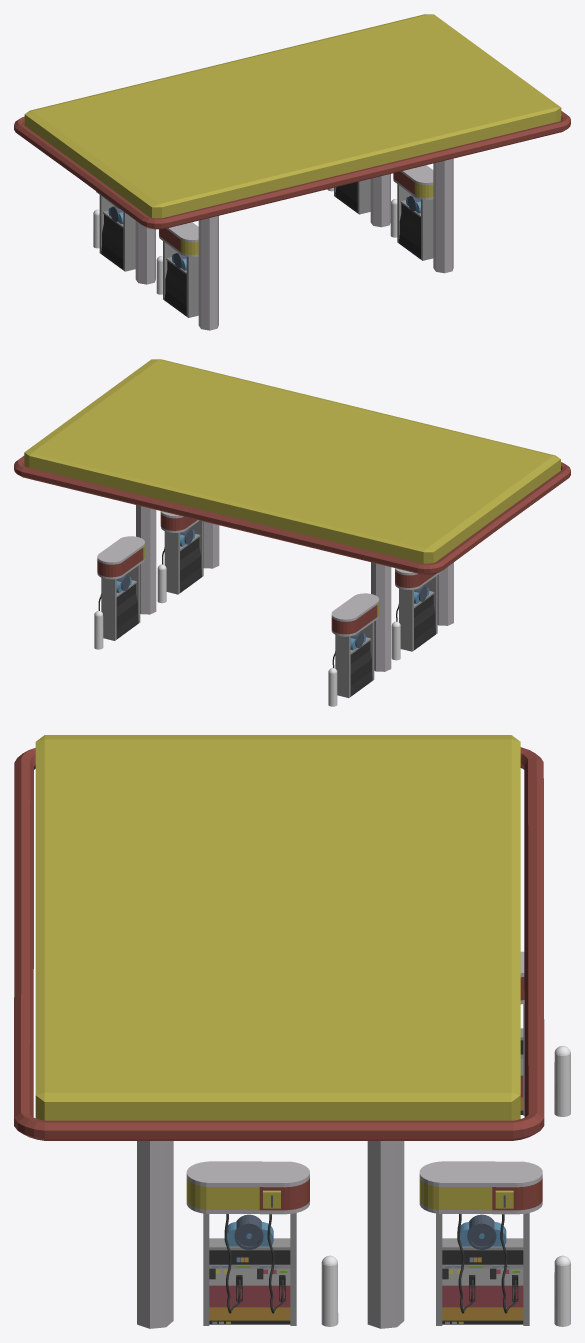
The model's file is gas_station.glb.
3 views of the same model, one above another, from view 1: azimuth 30°, elevation 25°; view 2: azimuth 150°, elevation 25°; view 3: azimuth 270°, elevation 25° (orthographic). The views are drawn at different scales.
Visible parts, largest first — view 1: Cube.005_Cube.006, zzzzThething_Cylinder.004, Cylinder, Cylinder.001, Cylinder.003, Cylinder.002, Cylinder.064_Cylinder.067, Cylinder.005_Cylinder.006, Cube.062_Cube.064, Cube.009_Cube.011, Cube.122_Cube.124, Cube.006_Cube.008 (+4 smaller); view 2: Cube.005_Cube.006, zzzzThething_Cylinder.004, Cylinder.003, Cylinder.002, Cylinder.034_Cylinder.037, Cylinder.035_Cylinder.038, Cylinder, Cube.062_Cube.064, Cube.067_Cube.069, Cube.064_Cube.066, Cube.124_Cube.126, Cube.069_Cube.071 (+6 smaller); view 3: Cube.005_Cube.006, zzzzThething_Cylinder.004, Cylinder.002, Cylinder.001, Cylinder.035_Cylinder.038, Cylinder.064_Cylinder.067, Cube.122_Cube.124, Cube.069_Cube.071, Sphere.003, Sphere.002, Sphere.001, Cylinder.048_Cylinder.051 (+5 smaller).
Boxes of the visible parts, <box> form: Cube.005_Cube.006: <box>24,14,561,218</box>; zzzzThething_Cylinder.004: <box>14,111,570,229</box>; Cylinder: <box>198,216,218,330</box>; Cylinder.001: <box>433,158,453,273</box>; Cylinder.003: <box>135,220,155,284</box>; Cylinder.002: <box>370,174,390,227</box>; Cylinder.064_Cylinder.067: <box>393,165,433,199</box>; Cylinder.005_Cylinder.006: <box>159,222,198,256</box>; Cube.062_Cube.064: <box>101,214,123,269</box>; Cube.009_Cube.011: <box>164,261,186,316</box>; Cube.122_Cube.124: <box>399,203,420,259</box>; Cube.006_Cube.008: <box>186,256,198,317</box>; Cube.005_Cube.006: <box>24,359,560,563</box>; zzzzThething_Cylinder.004: <box>14,456,570,574</box>; Cylinder.003: <box>371,562,391,671</box>; Cylinder.002: <box>136,505,156,614</box>; Cylinder.034_Cylinder.037: <box>331,593,379,636</box>; Cylinder.035_Cylinder.038: <box>97,536,144,579</box>; Cylinder: <box>437,562,453,625</box>; Cube.062_Cube.064: <box>350,641,372,696</box>; Cube.067_Cube.069: <box>101,577,116,640</box>; Cube.064_Cube.066: <box>335,635,350,697</box>; Cube.124_Cube.126: <box>164,531,179,594</box>; Cube.069_Cube.071: <box>116,584,138,639</box>; Cube.005_Cube.006: <box>35,735,520,1120</box>; zzzzThething_Cylinder.004: <box>14,747,544,1140</box>; Cylinder.002: <box>367,1141,404,1328</box>; Cylinder.001: <box>137,1141,173,1328</box>; Cylinder.035_Cylinder.038: <box>419,1161,542,1214</box>; Cylinder.064_Cylinder.067: <box>186,1161,309,1214</box>; Cube.122_Cube.124: <box>209,1250,290,1324</box>; Cube.069_Cube.071: <box>442,1250,523,1324</box>; Sphere.003: <box>321,1255,338,1326</box>; Sphere.002: <box>554,1255,570,1326</box>; Sphere.001: <box>554,1045,570,1116</box>; Cylinder.048_Cylinder.051: <box>467,1214,496,1249</box>.
Bounding box in the file's own units: 4.82 × 1.78 × 2.96.
